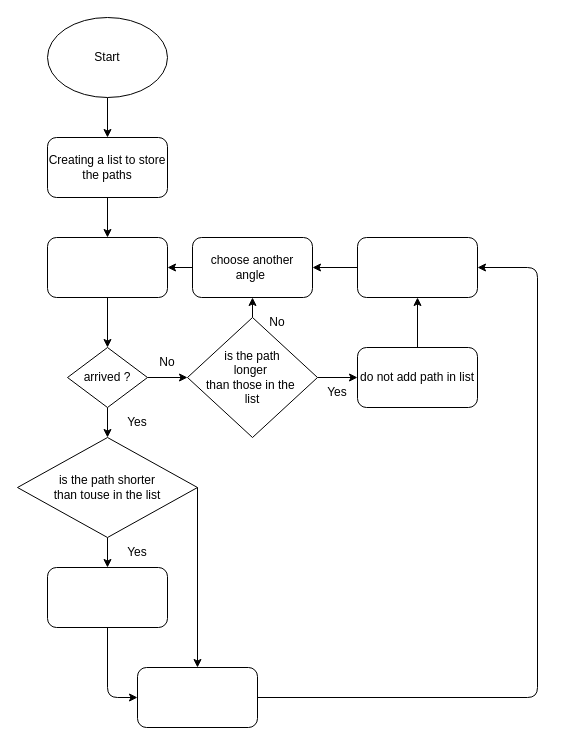
Some shapes in this 563 by 745 pixel diagram are drawn without their labels. The box of each missing label's shape, as (x1, y1, x2, y2) in pixels:
add path in list: (136, 666, 258, 728)
Calculation of the following speed: (46, 236, 168, 298)
go back on step: (356, 236, 478, 298)
remove all path from the liste: (46, 566, 168, 628)
